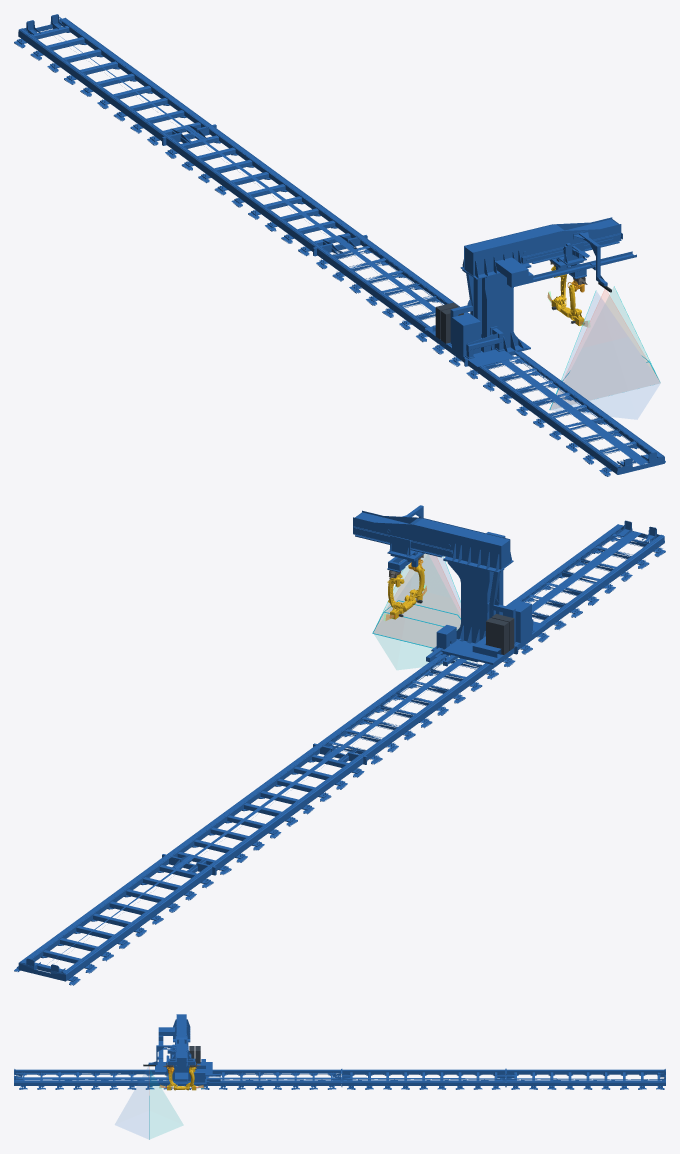
The model's file is rizhao-0514-workstation.glb.
3 renders of one model, top to bottom at view 1: azimuth 30°, elevation 25°; view 2: azimuth 150°, elevation 25°; view 3: azimuth 270°, elevation 25°, orthographic. The views are drawn at different scales.
Visible parts, largest first — view 1: weldone_visual_1 (×2), 粗定位左目视野, 粗定位右目视野; view 2: weldone_visual_1 (×2), 粗定位右目视野; view 3: weldone_visual_1 (×2), 粗定位左目视野, 粗定位右目视野.
Boxes of the visible parts, left/top/right/bottom form: weldone_visual_1 (×2): left=14, top=14, right=665, bottom=476; 粗定位左目视野: left=551, top=291, right=659, bottom=418; 粗定位右目视野: left=606, top=288, right=657, bottom=377; weldone_visual_1 (×2): left=14, top=505, right=665, bottom=985; 粗定位右目视野: left=374, top=554, right=467, bottom=669; weldone_visual_1 (×2): left=14, top=1014, right=665, bottom=1089; 粗定位左目视野: left=115, top=1067, right=148, bottom=1138; 粗定位右目视野: left=150, top=1070, right=182, bottom=1138.
Size of the model in its own units: 6.2 by 5.05 by 36.04.
